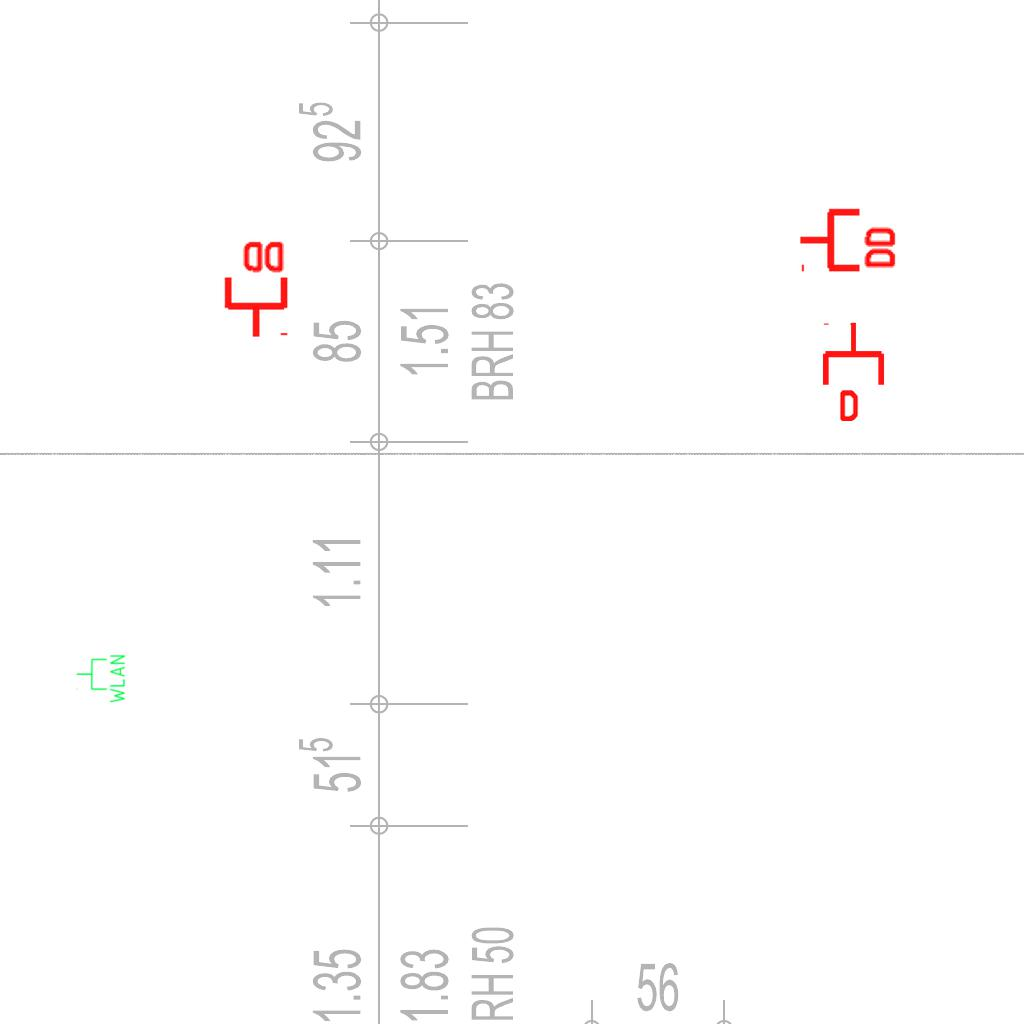Datenanschluss_einfach: (819, 321, 888, 421)
Datenanschluss_zweifach: (220, 237, 289, 340), (797, 204, 900, 273)
WLAN: (75, 653, 127, 705)
